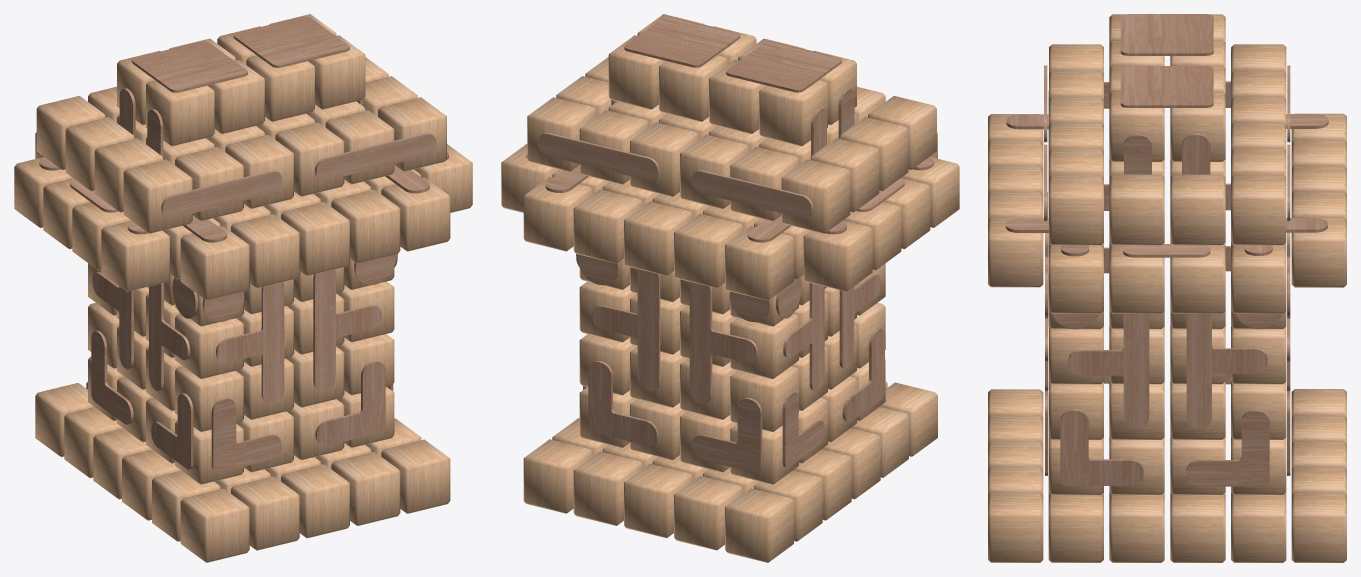
File: level_108.fbx
3 renders of one model, left to right at view 1: azimuth 30°, elevation 25°; view 2: azimuth 150°, elevation 25°; view 3: azimuth 270°, elevation 25°, orthographic. The views are drawn at different scales.
Visible parts, largest first — view 1: Cube.033, Cube.124, obj_obs_T.003, Cube.158, obj_obs_T.004, obj_obs_square.002, obj_obs_square.003, Cube.166, Cube.121, Cube.030, Cube.123, Cube.031 (+74 smaller); view 2: Cube.024, Cube.115, obj_obs_T.002, Cube.157, obj_obs_T.001, obj_obs_square.002, obj_obs_square.003, Cube.165, Cube.078, Cube.074, Cube.100, Cube.002 (+74 smaller); view 3: obj_obs_T.006, obj_obs_T.005, Cube.163, Cube.164, Cube.161, Cube.054, Cube.003, Cube.162, obj_obs_square.002, obj_obs_square.003, Cube.059, Cube.028 (+63 smaller).
Part boxes in pixels (<box>): Cube.033: <box>180,488,249,562</box>; Cube.124: <box>180,226,249,300</box>; obj_obs_T.003: <box>216,282,284,403</box>; Cube.158: <box>101,220,169,291</box>; obj_obs_T.004: <box>313,269,381,391</box>; obj_obs_square.002: <box>233,16,349,67</box>; obj_obs_square.003: <box>132,41,247,92</box>; Cube.166: <box>123,159,192,233</box>; Cube.121: <box>331,189,400,263</box>; Cube.030: <box>331,451,400,525</box>; Cube.123: <box>231,214,299,288</box>; Cube.031: <box>281,464,349,538</box>; Cube.024: <box>725,488,793,562</box>; Cube.115: <box>725,226,793,300</box>; obj_obs_T.002: <box>592,269,660,391</box>; Cube.157: <box>803,220,872,291</box>; obj_obs_T.001: <box>689,282,757,403</box>; obj_obs_square.002: <box>624,16,740,67</box>; obj_obs_square.003: <box>726,41,841,92</box>; Cube.165: <box>781,159,850,233</box>; Cube.078: <box>674,476,742,550</box>; Cube.074: <box>674,214,742,288</box>; Cube.100: <box>573,189,642,263</box>; Cube.002: <box>573,451,642,525</box>; obj_obs_T.006: <box>1068,313,1149,428</box>; obj_obs_T.005: <box>1186,313,1267,428</box>; Cube.163: <box>1170,174,1225,245</box>; Cube.164: <box>1109,174,1164,245</box>; Cube.161: <box>1231,174,1286,245</box>; Cube.054: <box>988,492,1043,562</box>; Cube.003: <box>1291,492,1346,562</box>; Cube.162: <box>1049,174,1103,245</box>; obj_obs_square.002: <box>1120,66,1213,107</box>; obj_obs_square.003: <box>1120,14,1213,55</box>; Cube.059: <box>1048,493,1103,562</box>; Cube.028: <box>1231,494,1286,562</box>.
Size of the model in its own units: 15.27 by 17.57 by 12.98.
